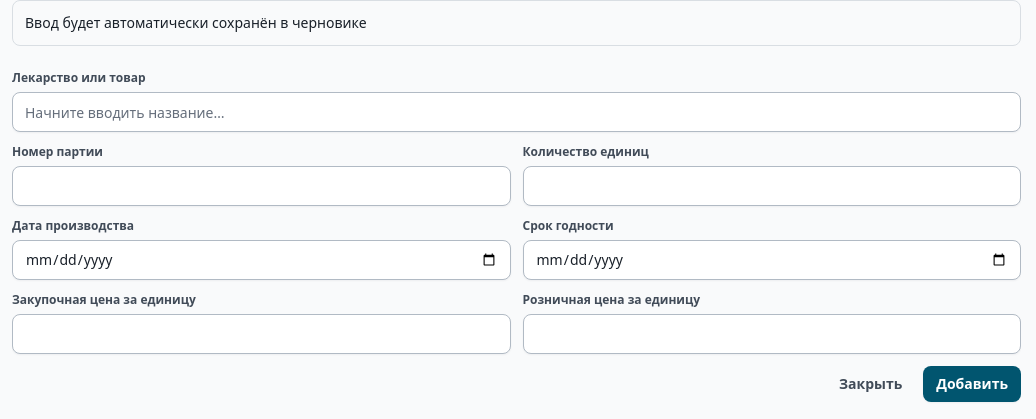
Scenario: AddItemForm › keeps newer RHF input when an earlier autosave finishes
Type "12," into the field labelled "Количество единиц".
click(772, 186); type("12,")  # box [522,166,1021,206]
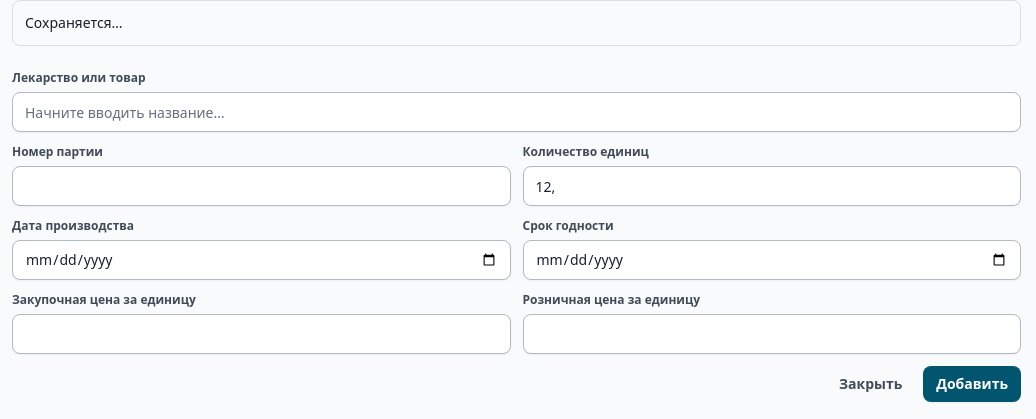
Replace the text in the field labelled "Количество единиц" with "13," at (772, 186), box [522,166,1021,206]
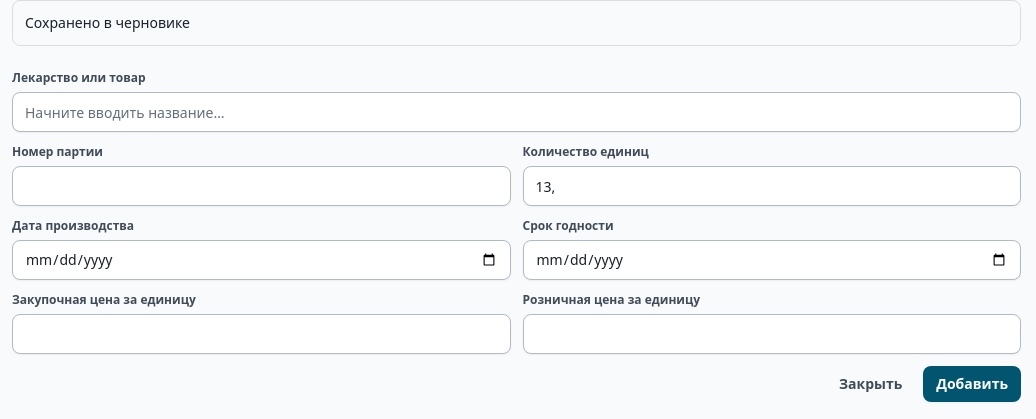
Result: the text "Сохранено в черновике" is shown at [25,13,190,32]
